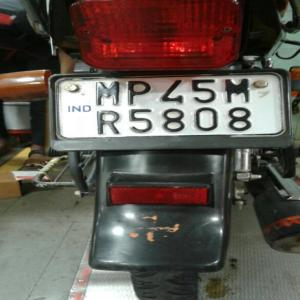Plate: (46, 71, 290, 141)
